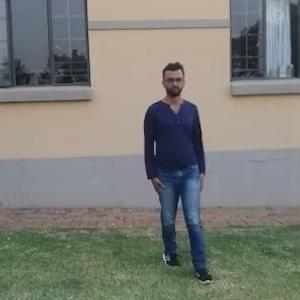follow: (144, 63, 204, 267)
